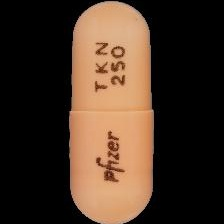0069-5810: (0, 0, 224, 224)
